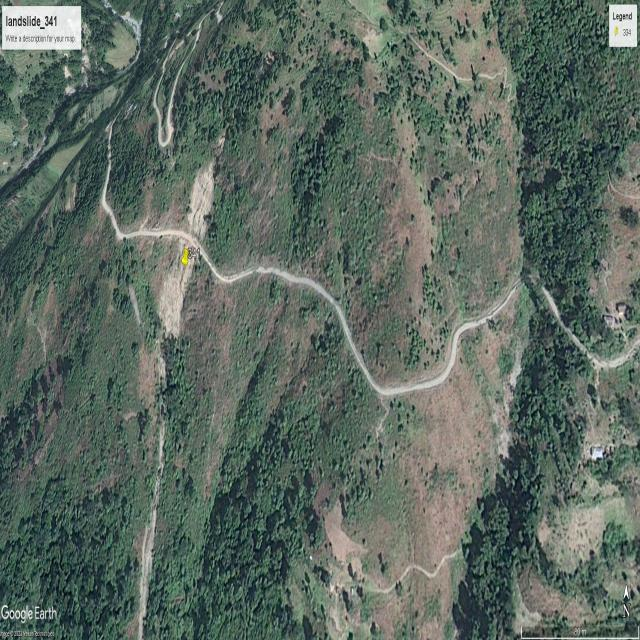Landslide: (160, 252, 197, 336), (187, 161, 220, 231)
